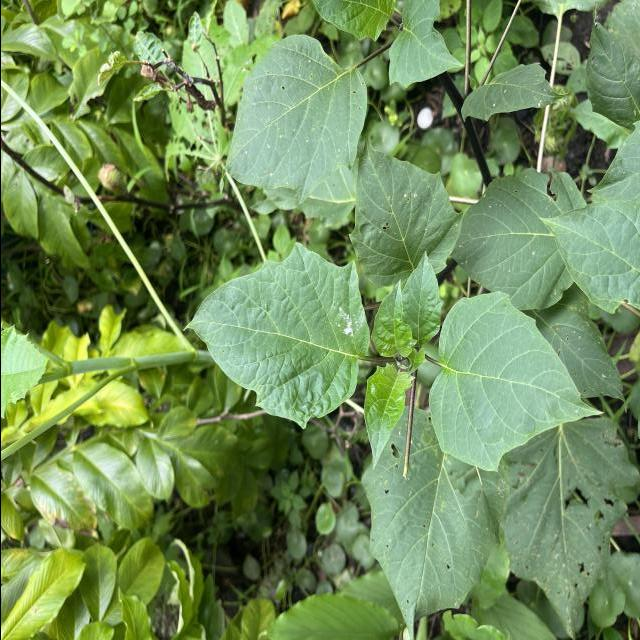Datura metal linn: (180, 240, 370, 432), (423, 289, 604, 474), (215, 32, 369, 208), (346, 134, 464, 288)
